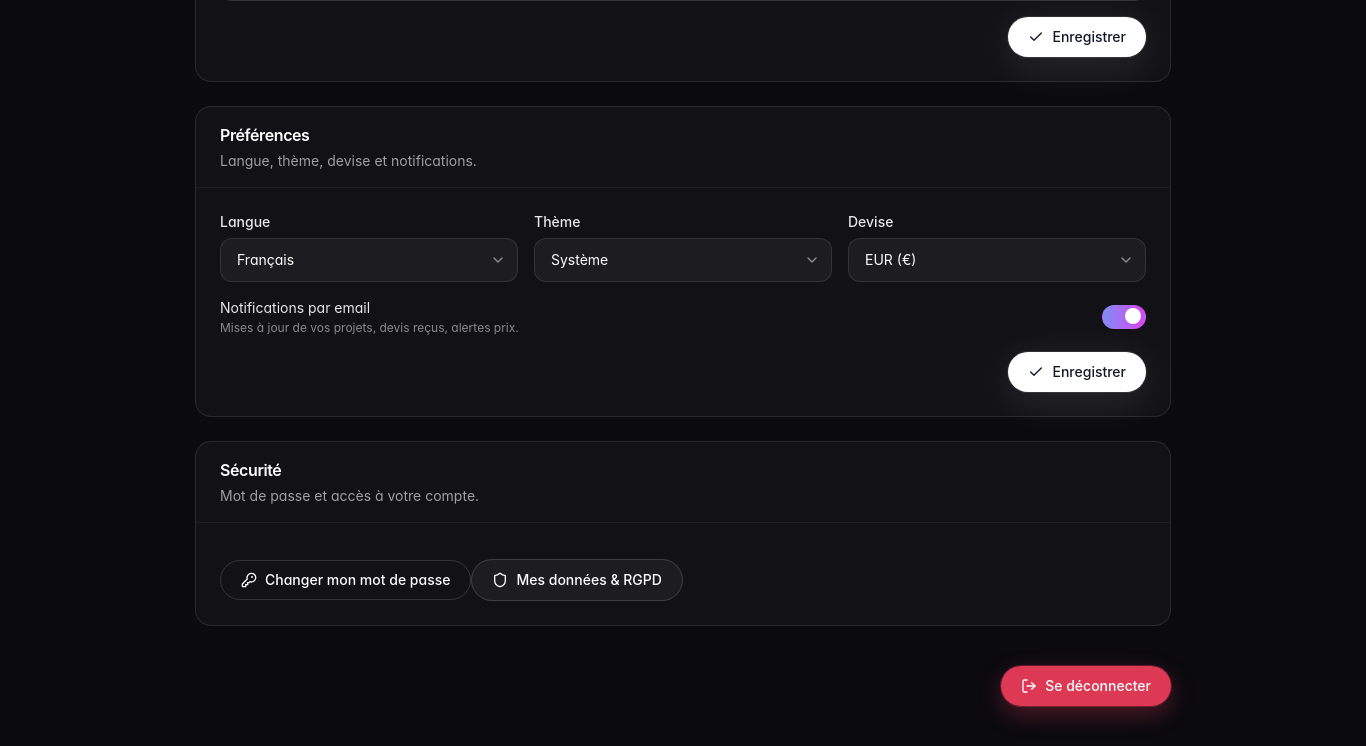
it: ProfilePage › Password Change Dialog › should close the dialog when cancel is clicked
(page scrolled)
Click the button "Changer mon mot de passe": (346, 580) [220, 560, 472, 600]
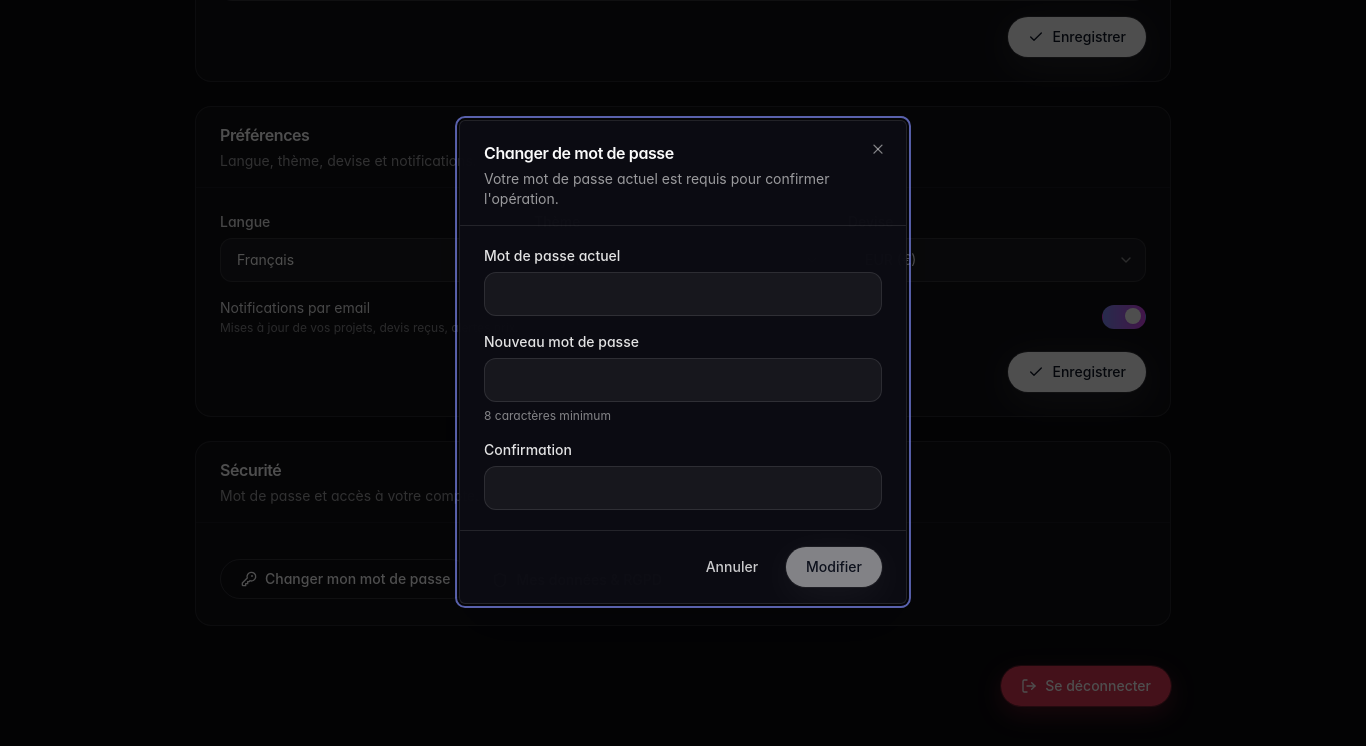
Expected: the dialog is shown, [459, 120, 907, 604]
Click the button "Annuler": (732, 567) [686, 547, 778, 587]
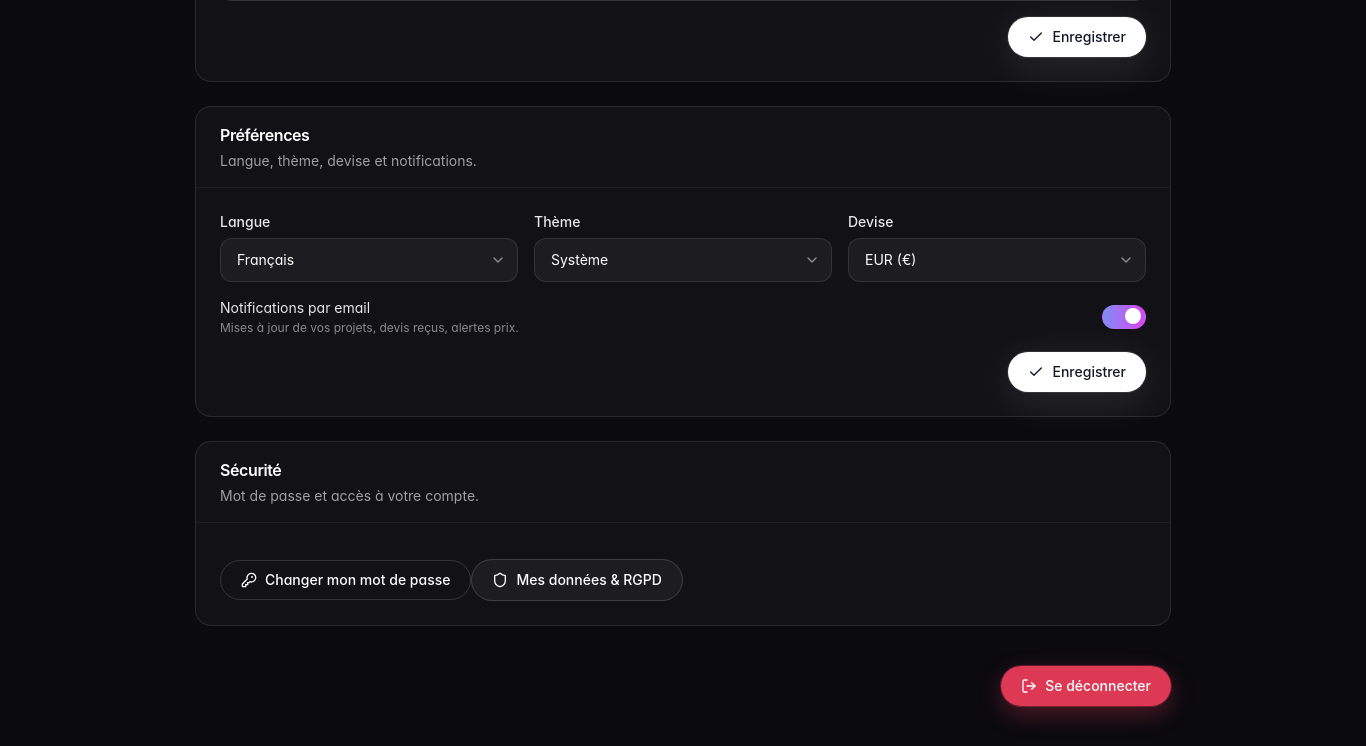
Expected: the dialog is gone
